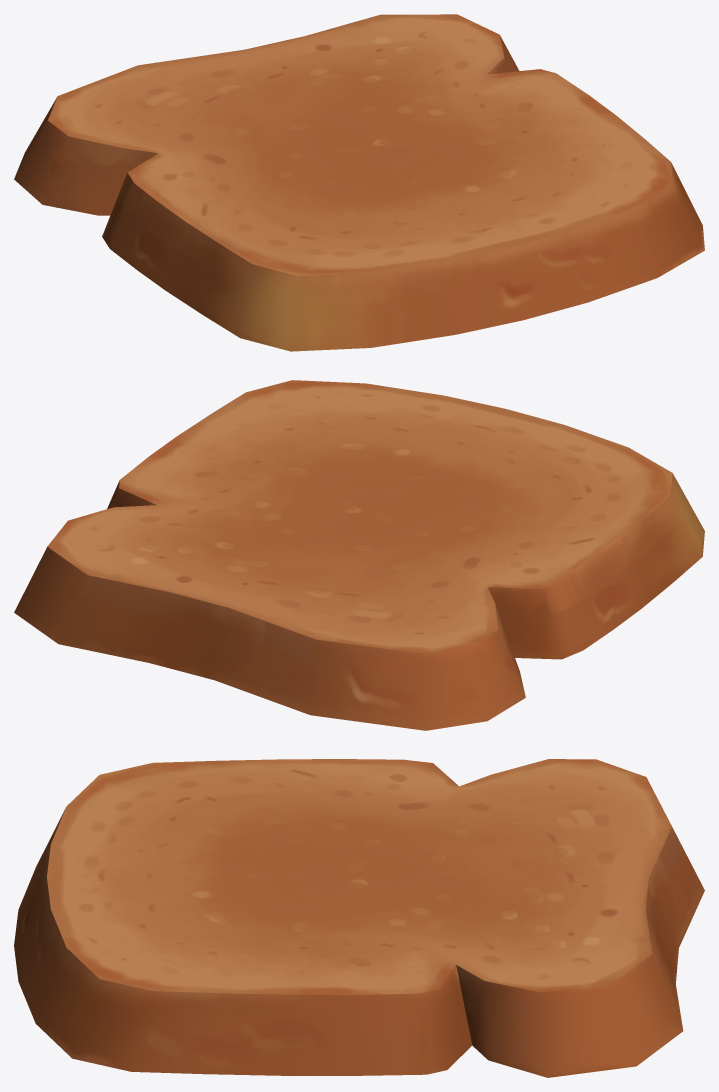
Rendered from paindemie.fbx.
3 views of the same model, one above another, from view 1: azimuth 30°, elevation 25°; view 2: azimuth 150°, elevation 25°; view 3: azimuth 270°, elevation 25° (orthographic). The views are drawn at different scales.
Parts seen in each view (by area): view 1: paindemie; view 2: paindemie; view 3: paindemie.
Boxes of the visible parts, <box> form: paindemie: <box>14,14,704,351</box>; paindemie: <box>14,380,704,730</box>; paindemie: <box>14,759,704,1077</box>.
Size of the model in its own units: 25.61 by 3.1 by 28.26.
